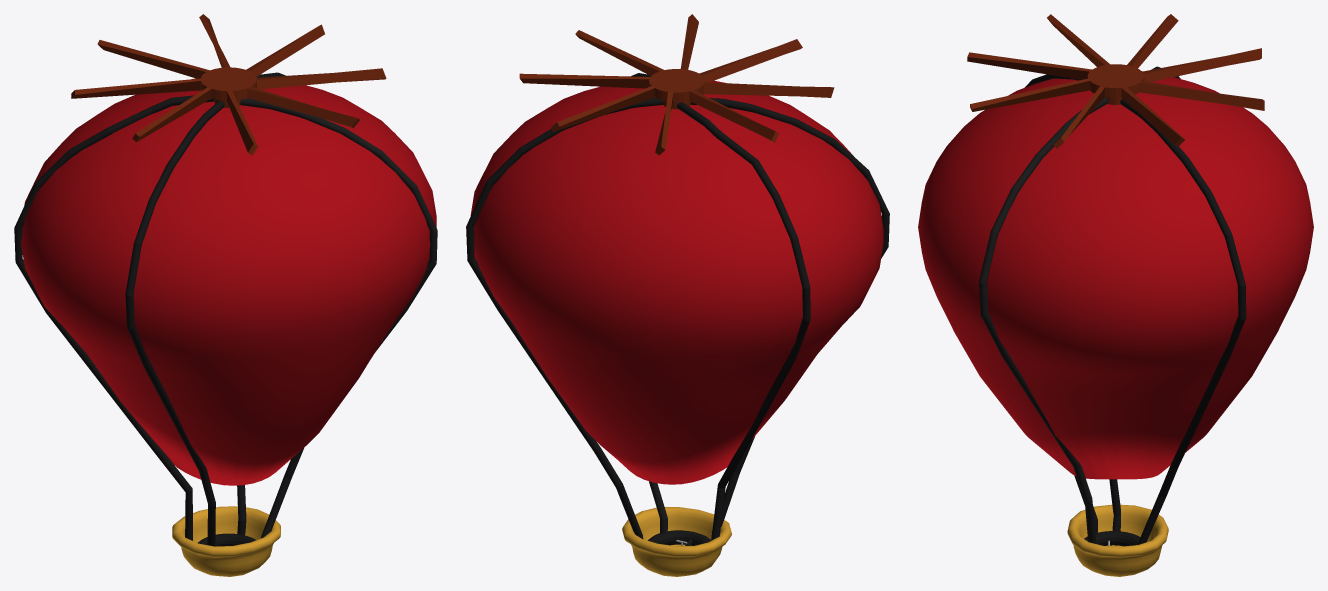
Rendered from balloon.obj.
The picture shows the model from 3 angles, left to right: view 1: azimuth 30°, elevation 25°; view 2: azimuth 150°, elevation 25°; view 3: azimuth 270°, elevation 25°; orthographic projection.
Visible parts, largest first — view 1: Sphere, Cylinder, Cube, Cylinder.004, Cylinder.001, Cylinder.003, Cylinder.002; view 2: Sphere, Cylinder, Cube, Cylinder.004, Cylinder.002, Cylinder.001, Torus; view 3: Sphere, Cylinder, Cube, Cylinder.002, Cylinder.003, Torus.
Part boxes in pixels (x1,y1,x2,y2): Sphere: (21,78,436,485); Cylinder: (71,14,386,155); Cube: (172,506,280,576); Cylinder.004: (14,95,214,540); Cylinder.001: (125,100,224,546); Cylinder.003: (240,98,437,538); Cylinder.002: (237,72,286,535); Sphere: (470,80,883,484); Cylinder: (519,14,834,155); Cube: (622,507,731,576); Cylinder.004: (676,102,810,540); Cylinder.002: (466,98,663,538); Cylinder.001: (690,98,889,532); Torus: (648,530,711,545); Sphere: (918,71,1313,479); Cylinder: (967,14,1264,148); Cube: (1067,504,1168,576); Cylinder.002: (1120,98,1246,544); Cylinder.003: (979,97,1107,543); Torus: (1084,531,1140,546).
Bounding box in the file's own units: 9.72 × 12.36 × 9.
